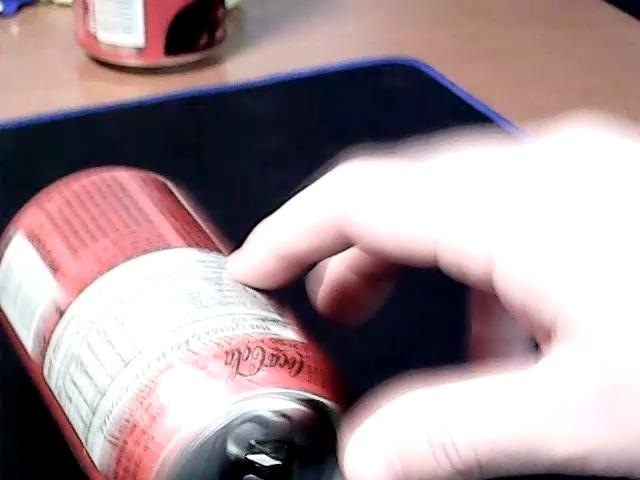coke: (2, 172, 346, 479), (73, 2, 243, 69)
